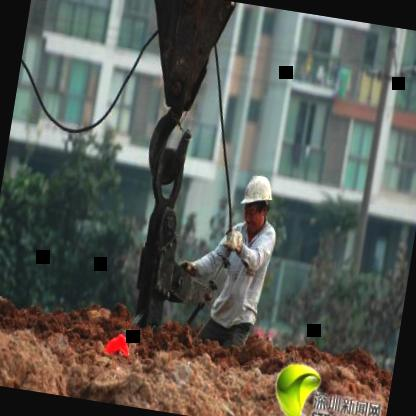helmet: (234, 169, 278, 236)
